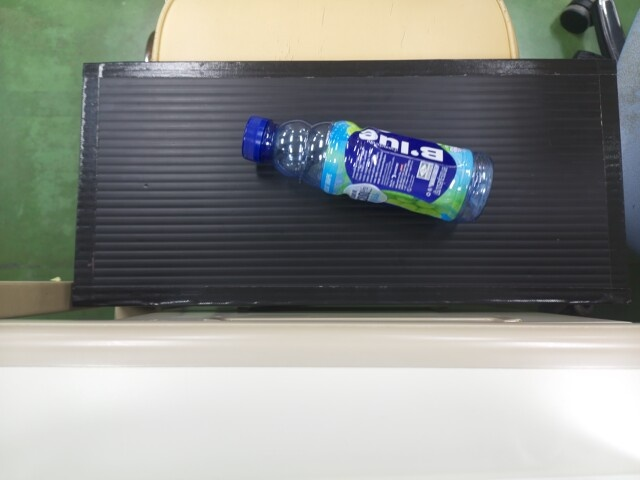plastic_bottle: (238, 113, 493, 225)
